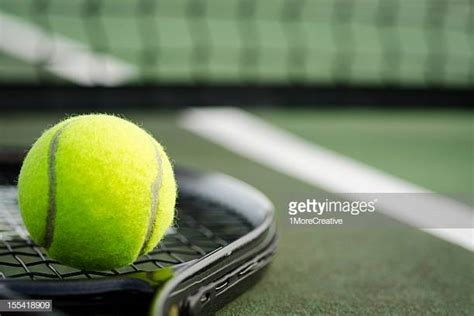tennis_ball: (17, 111, 177, 272)
